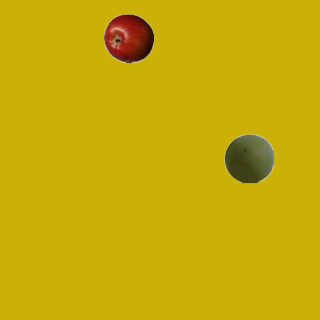Apple Braeburn: (103, 13, 153, 63)
Grape White 4: (223, 133, 273, 183)
